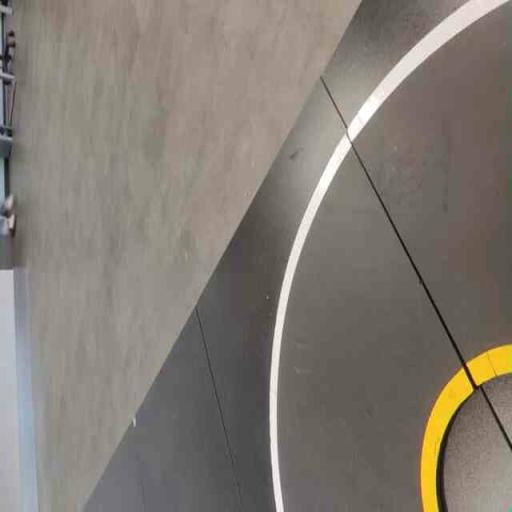left: (241, 126, 511, 511)
